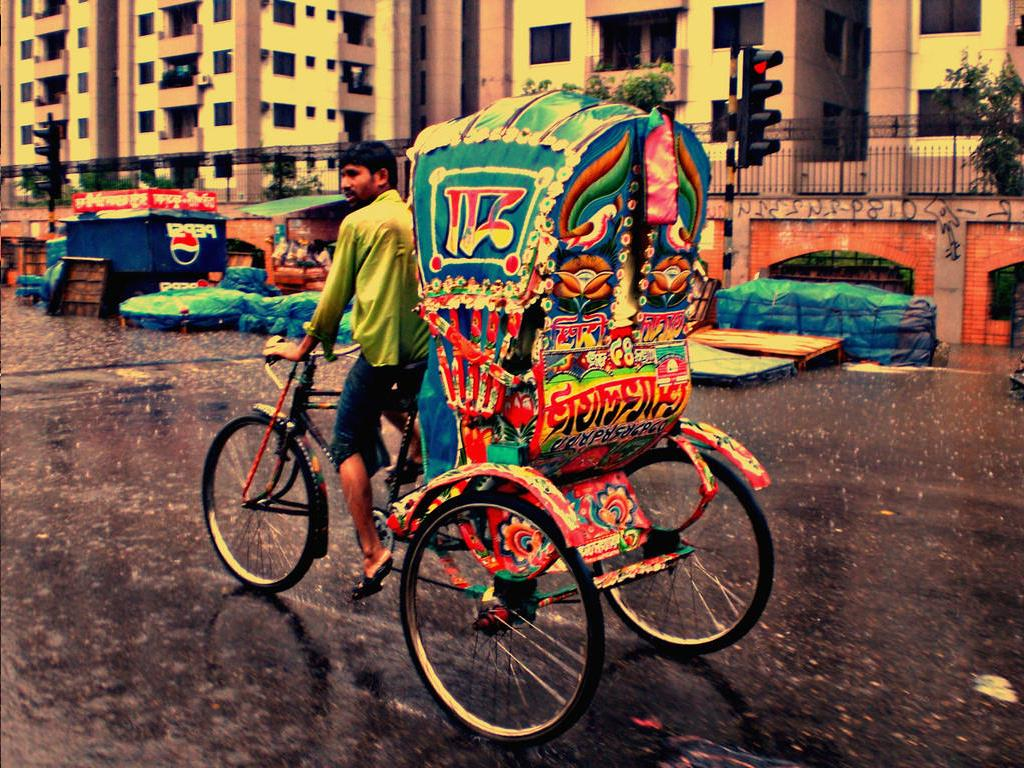Rickshaw: (221, 93, 786, 655)
